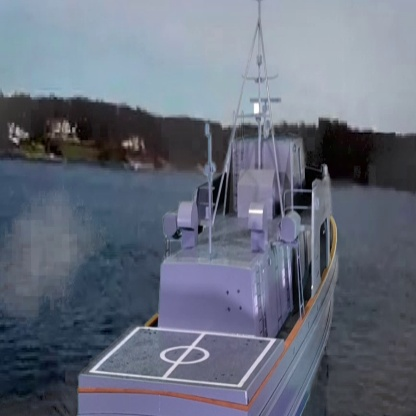YP689: (70, 0, 347, 416)
